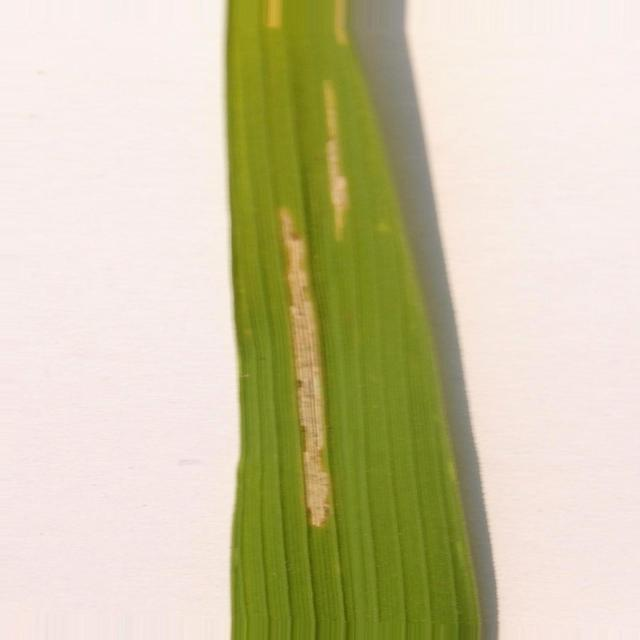Bacterial_Leaf_Blight: (279, 208, 331, 527), (322, 80, 350, 240), (334, 0, 349, 45), (266, 0, 282, 28)
